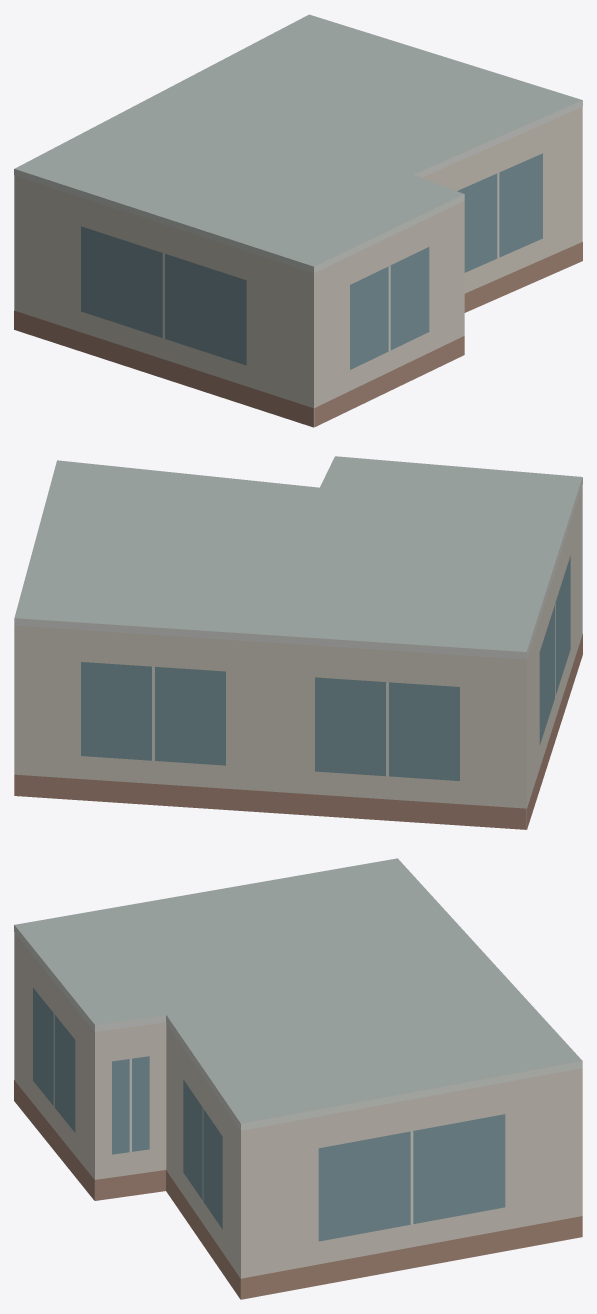
File: survey-upis-33043352.glb
The picture shows the model from 3 angles, top to bottom: view 1: azimuth 30°, elevation 25°; view 2: azimuth 150°, elevation 25°; view 3: azimuth 270°, elevation 25°; orthographic projection. The views are drawn at different scales.
Visible parts, largest first — view 1: survey-upis-33043352.tmp; view 2: survey-upis-33043352.tmp; view 3: survey-upis-33043352.tmp.
Part boxes in pixels (x1=…): survey-upis-33043352.tmp: x1=14, y1=14, x2=582, y2=427; survey-upis-33043352.tmp: x1=14, y1=456, x2=582, y2=829; survey-upis-33043352.tmp: x1=14, y1=858, x2=582, y2=1299.
Size of the model in its own units: 9.87 by 3.05 by 8.94.
